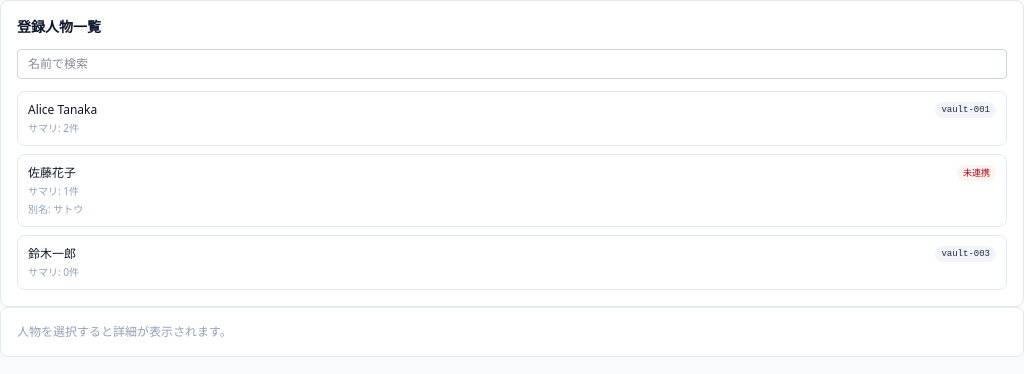
Test: PeopleListTab 検索ボックス › 大文字・小文字を区別しない
Step 1. Type "alice" into the search field named "人物名で検索" → {"x": 512, "y": 64}, box [17, 49, 1007, 79]
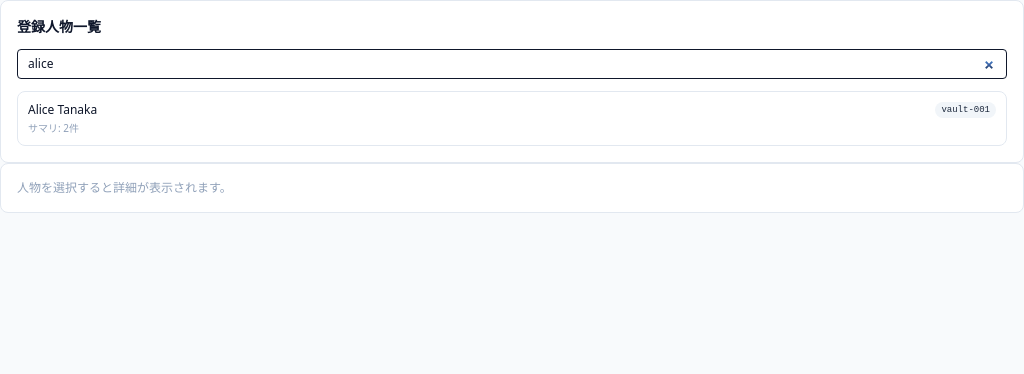
Expected: the button "Alice Tanaka vault-001 サマリ: 2件" is shown, [17, 91, 1007, 146]
Now the button "佐藤花子" is gone
